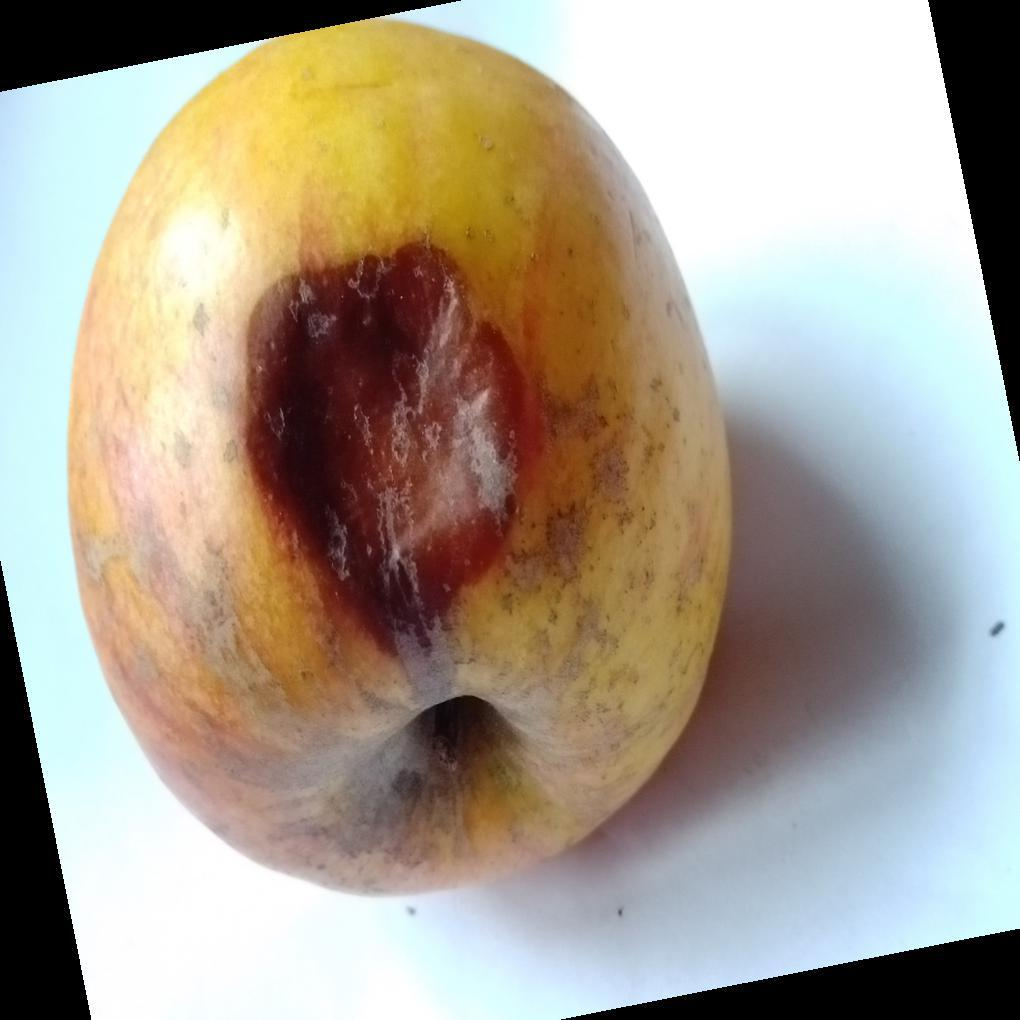FreshOrange: (66, 19, 736, 903)
